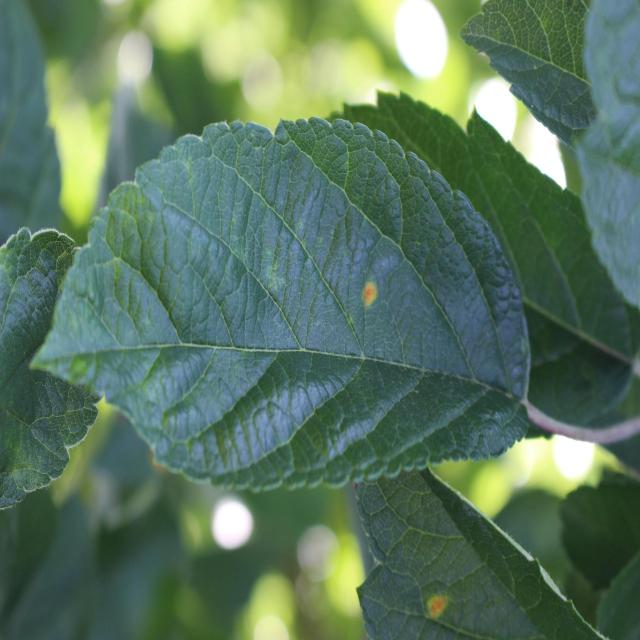Rust: (414, 583, 460, 625), (360, 262, 386, 318)
